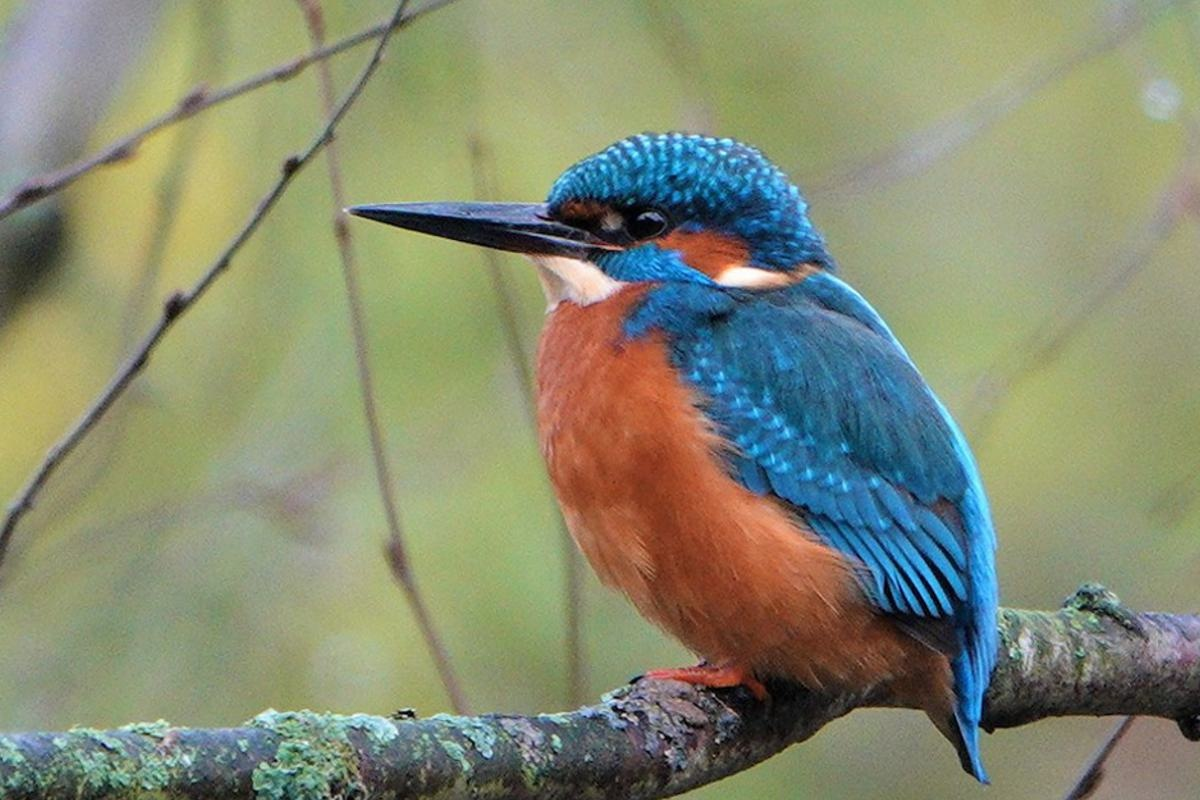kingfisher: (333, 105, 1050, 735)
